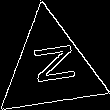N_W: (24, 44, 77, 92)
